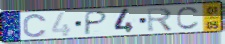4: (113, 8, 138, 36), (51, 11, 73, 38)
C: (176, 5, 202, 31), (22, 13, 48, 39)
P: (83, 10, 110, 36)
R: (146, 6, 174, 33)
